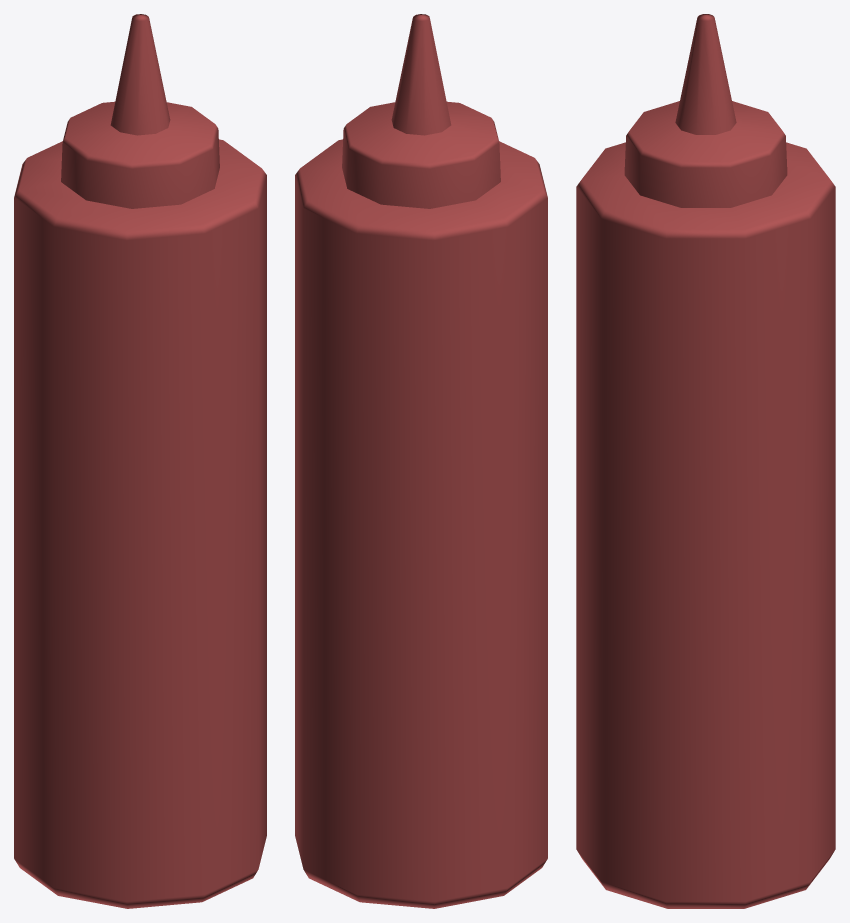
The model's file is M_Food_Bottle_Sauce_001.fbx.
3 views of the same model, side by side, from view 1: azimuth 30°, elevation 25°; view 2: azimuth 150°, elevation 25°; view 3: azimuth 270°, elevation 25° (orthographic).
Visible parts, largest first — view 1: KBottle; view 2: KBottle; view 3: KBottle.
Part boxes in pixels (box(x1,y1,x2,y2)): KBottle: box(14, 14, 266, 908); KBottle: box(295, 14, 547, 908); KBottle: box(576, 14, 835, 908).
Size of the model in its own units: 18.62 by 70.33 by 19.57.
